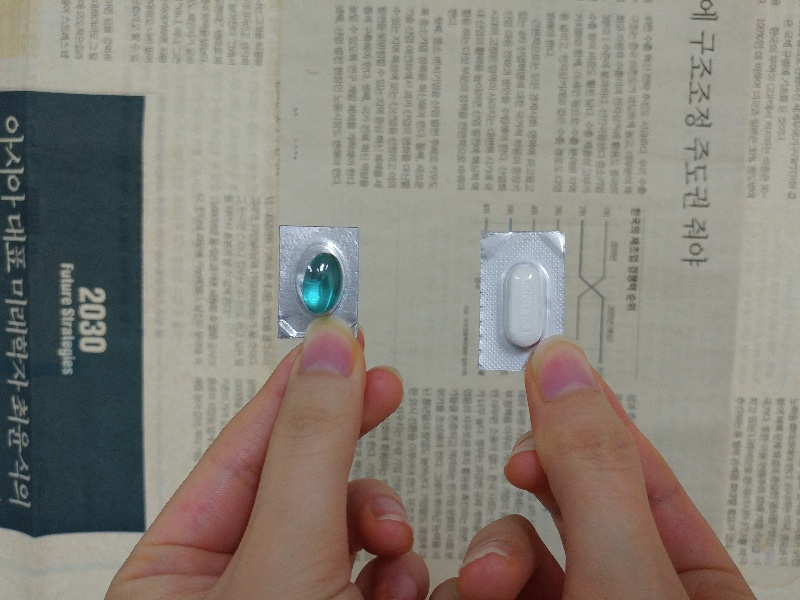pill_ezn: (279, 226, 355, 343)
pill_tylenol: (479, 229, 566, 372)
